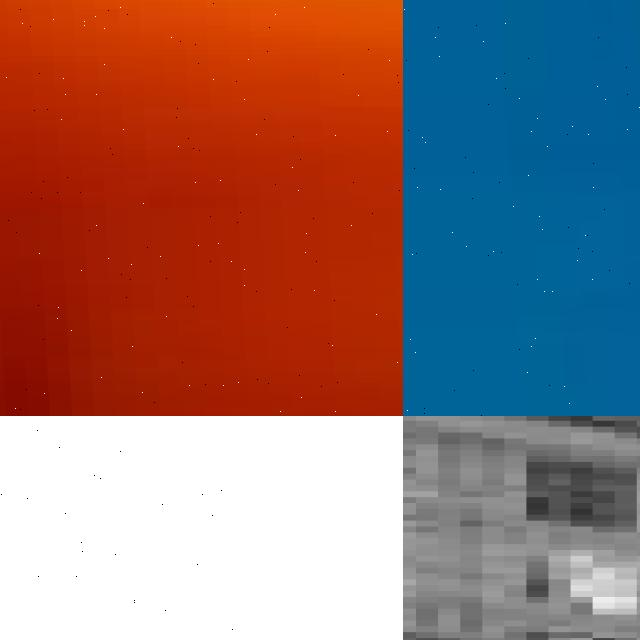street light: (0, 0, 403, 416), (403, 0, 640, 416), (0, 416, 235, 640)
